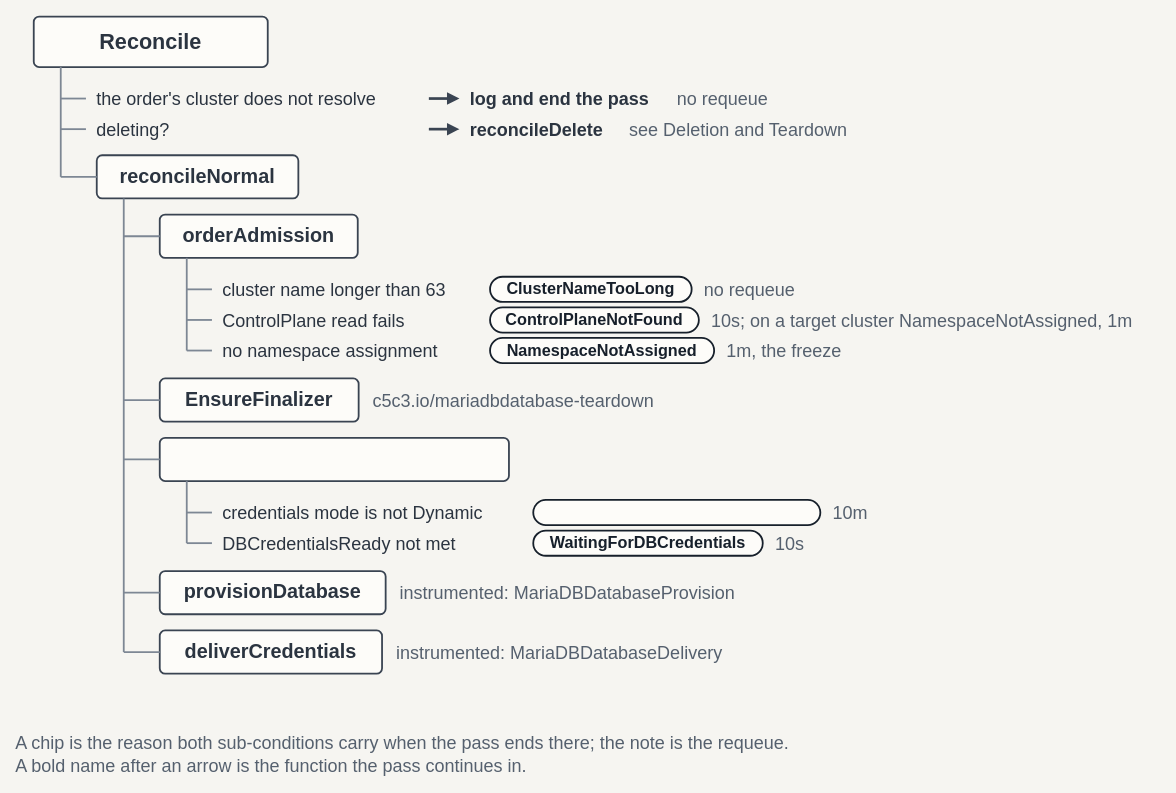
This 1176x793 diagram has some shape labels left out. Each missing label, with the centre of its shape:
"DynamicCredentialsUnavailable" goes at point 676,512.
"mariaDBDatabaseDynamicGate" goes at point 333,459.
